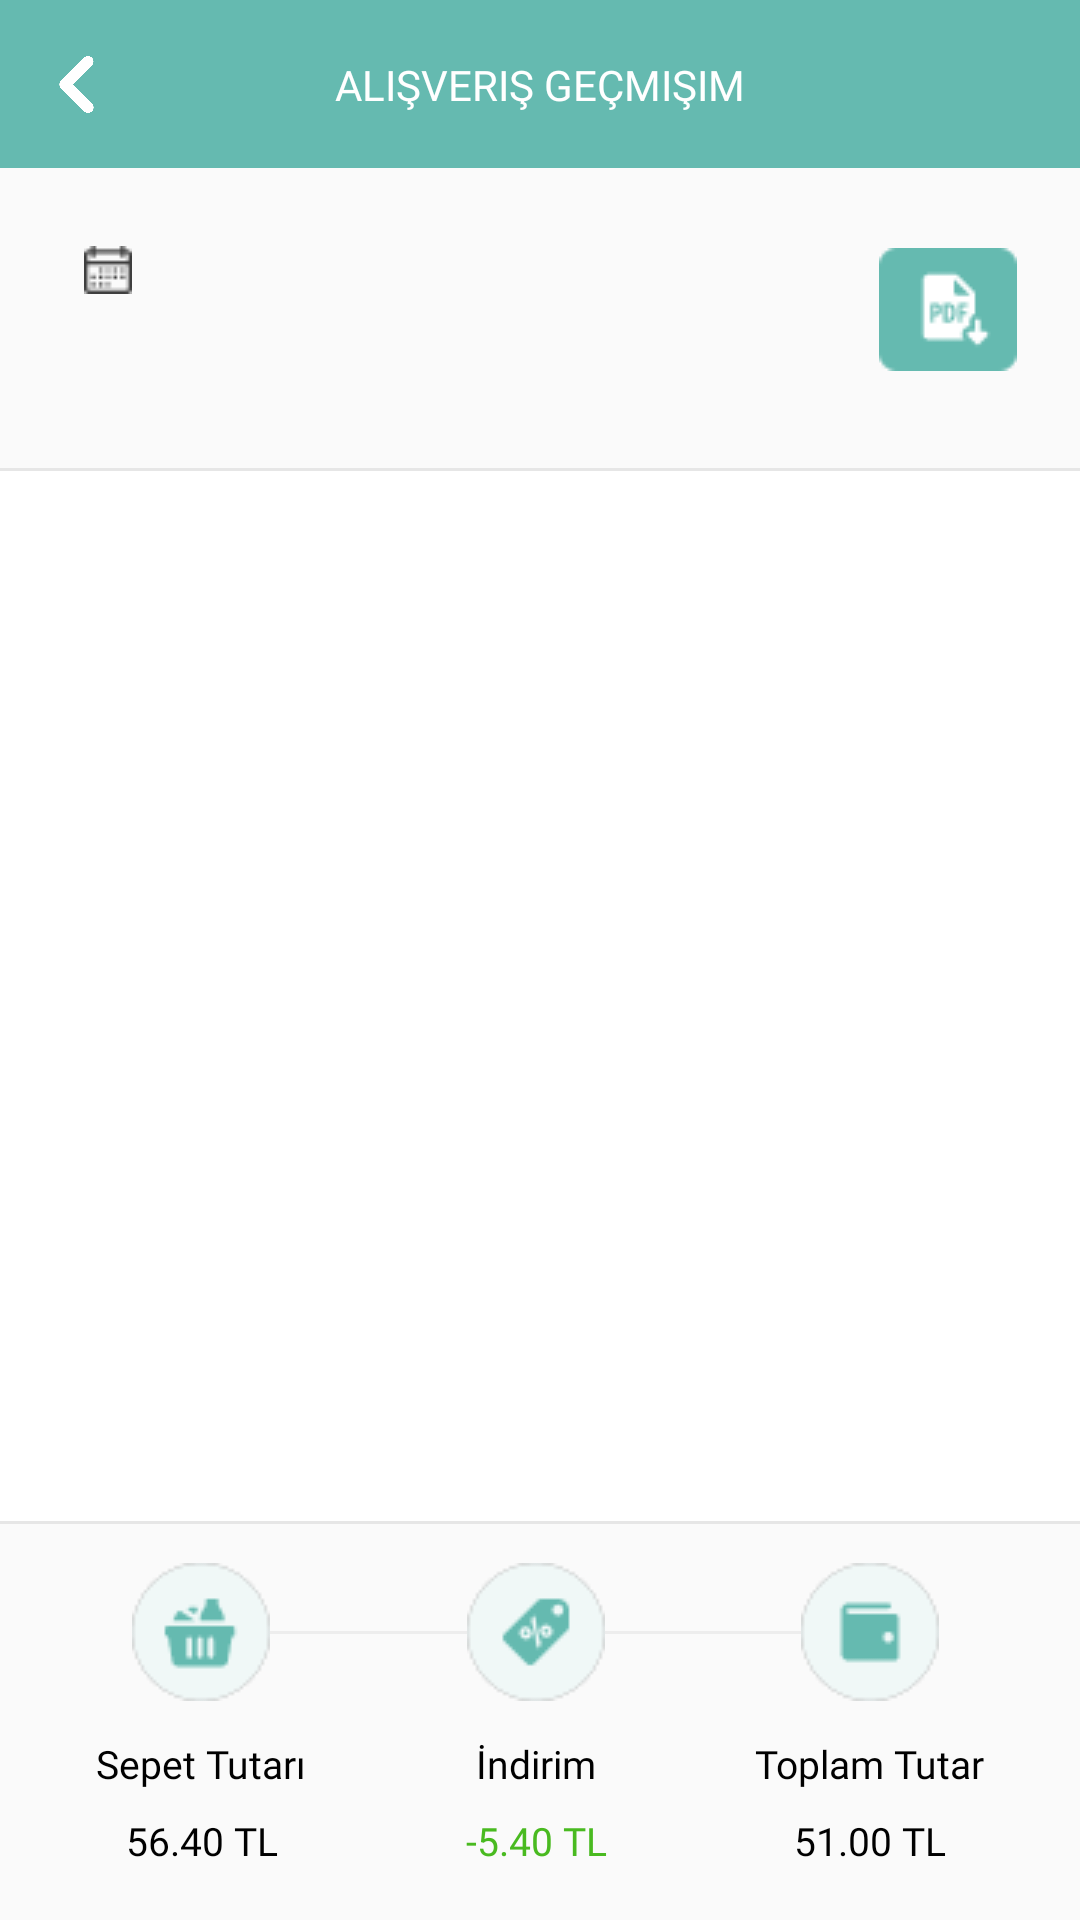

Screen size 1080x1920. Icon name, then its box in pixels as (x1, y1, x2, y2):
basket: (132, 1563, 270, 1701)
calendar: (84, 246, 132, 294)
previous: (59, 56, 94, 113)
ticket: (467, 1563, 605, 1701)
wallet: (801, 1563, 939, 1701)
